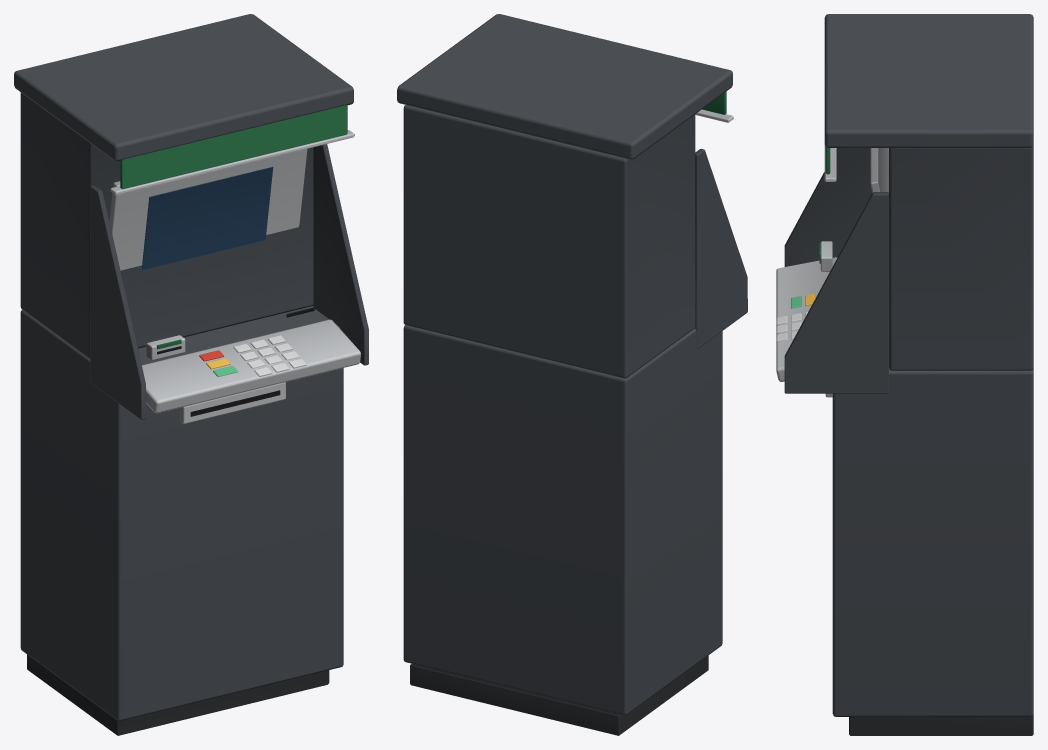
The model's file is atm.glb.
3 views of the same model, side by side, from view 1: azimuth 30°, elevation 25°; view 2: azimuth 150°, elevation 25°; view 3: azimuth 270°, elevation 25° (orthographic). The views are drawn at different scales.
Parts seen in each view (by area): view 1: atm; view 2: atm; view 3: atm.
Part boxes in pixels (bbox=[...]): atm: bbox=[14, 14, 368, 735]; atm: bbox=[397, 14, 747, 735]; atm: bbox=[776, 14, 1033, 735].
Bounding box in the file's own units: 0.7 × 1.68 × 0.6407.
